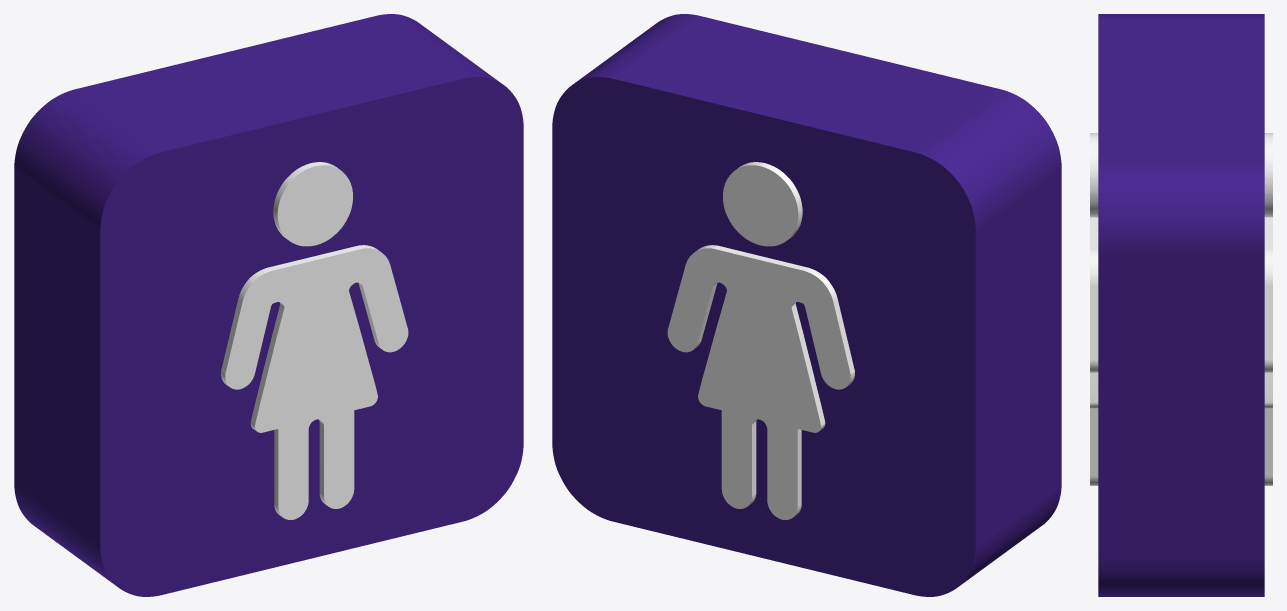
3 renders of one model, left to right at view 1: azimuth 30°, elevation 25°; view 2: azimuth 150°, elevation 25°; view 3: azimuth 270°, elevation 25°, orthographic. The views are drawn at different scales.
Visible parts, largest first — view 1: U+1F6BA_layer00_obj00, U+1F6BA_layer01_obj00; view 2: U+1F6BA_layer00_obj00, U+1F6BA_layer01_obj00; view 3: U+1F6BA_layer00_obj00, U+1F6BA_layer01_obj00.
Boxes of the visible parts, bbox=[...] form: U+1F6BA_layer00_obj00: bbox=[14, 14, 523, 596]; U+1F6BA_layer01_obj00: bbox=[221, 162, 408, 519]; U+1F6BA_layer00_obj00: bbox=[552, 14, 1061, 596]; U+1F6BA_layer01_obj00: bbox=[667, 162, 854, 519]; U+1F6BA_layer00_obj00: bbox=[1098, 14, 1264, 596]; U+1F6BA_layer01_obj00: bbox=[1090, 133, 1272, 485].
Bounding box in the file's own units: 0.5678 × 0.5677 × 0.22.
